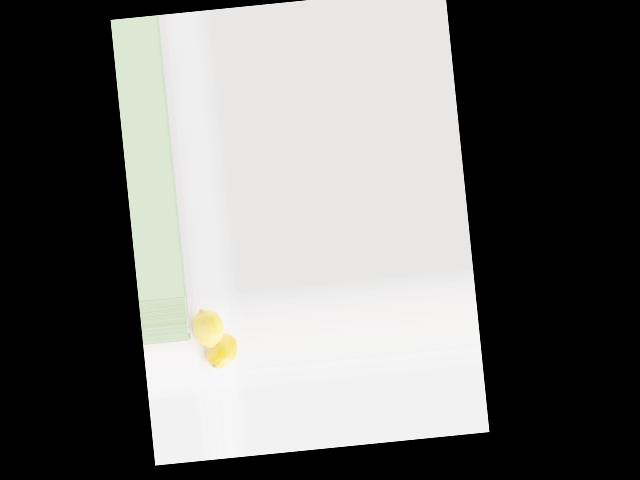lemon: (206, 334, 240, 370)
